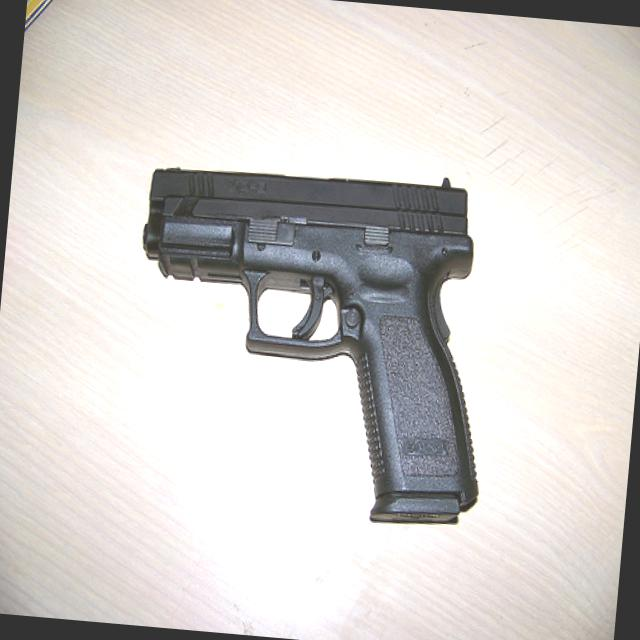handgun: (115, 152, 506, 536)
